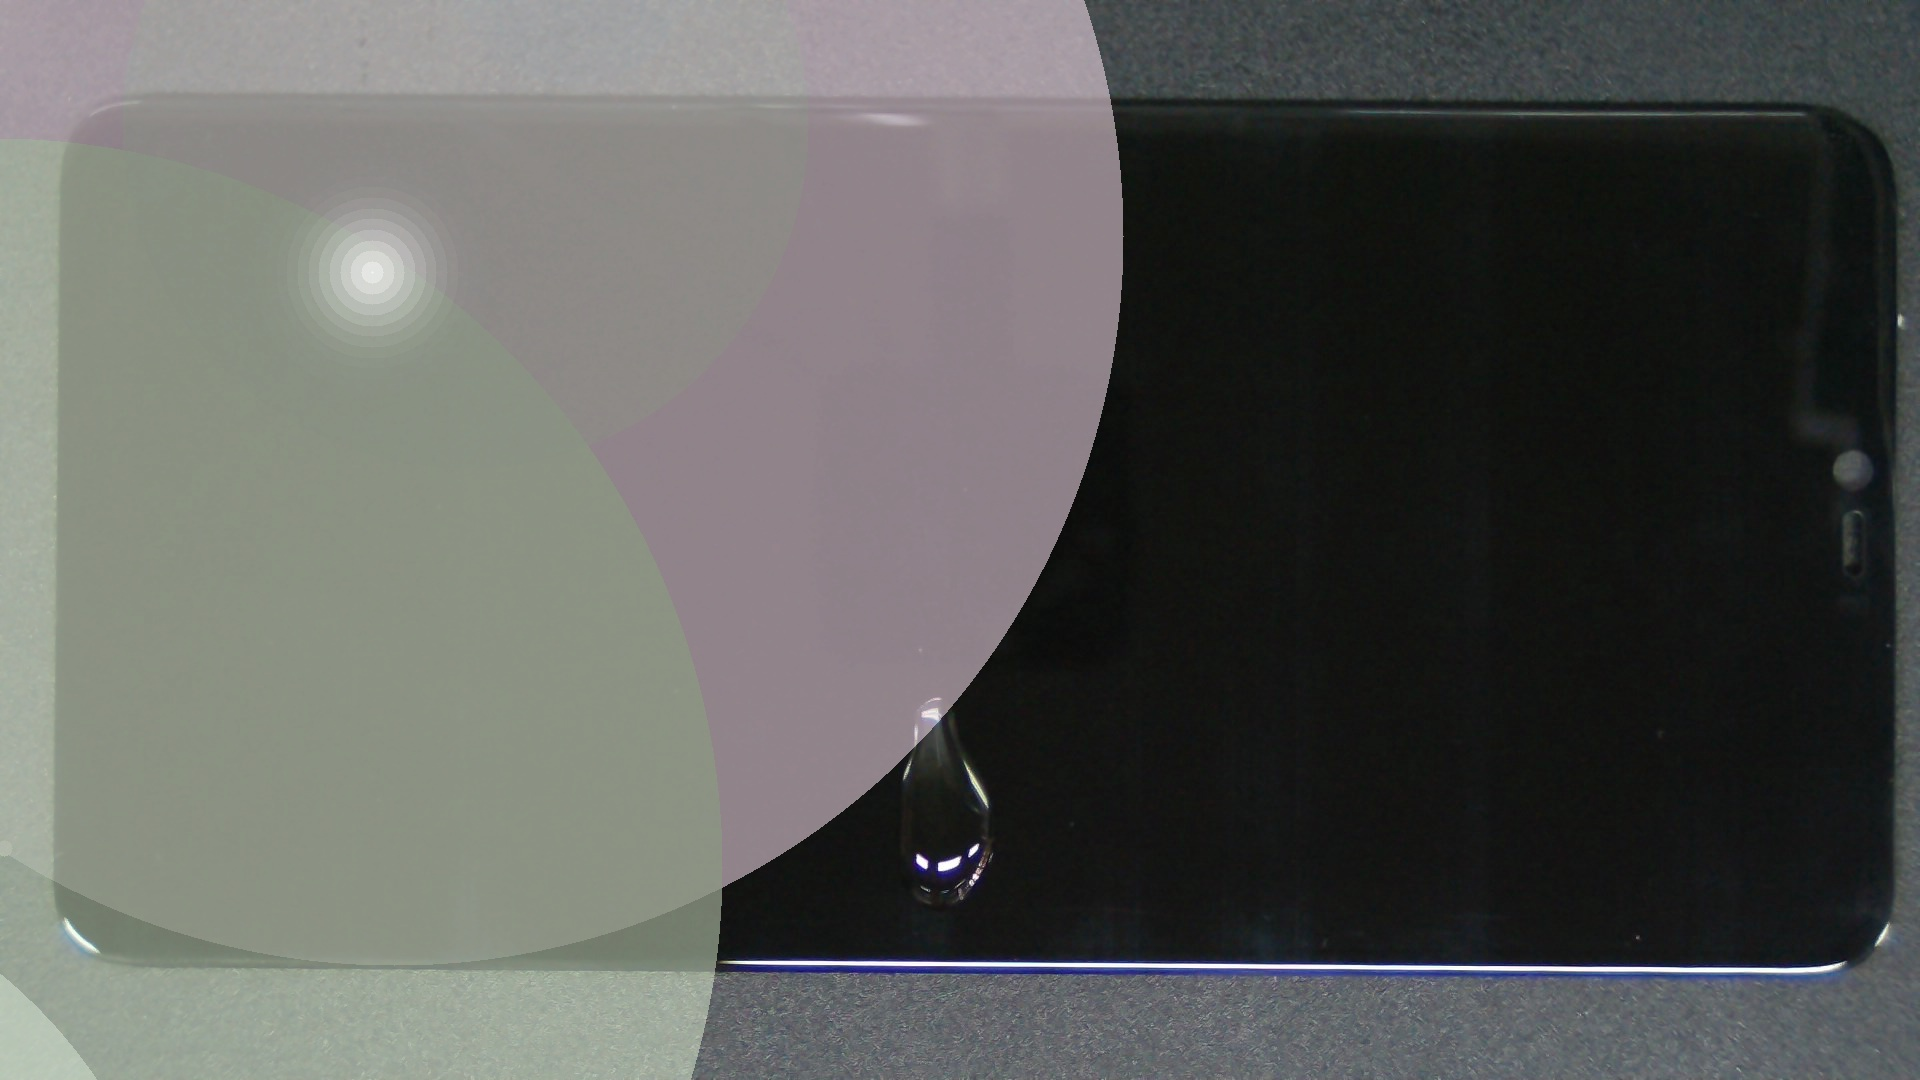oil: (469, 347, 1407, 1043)
